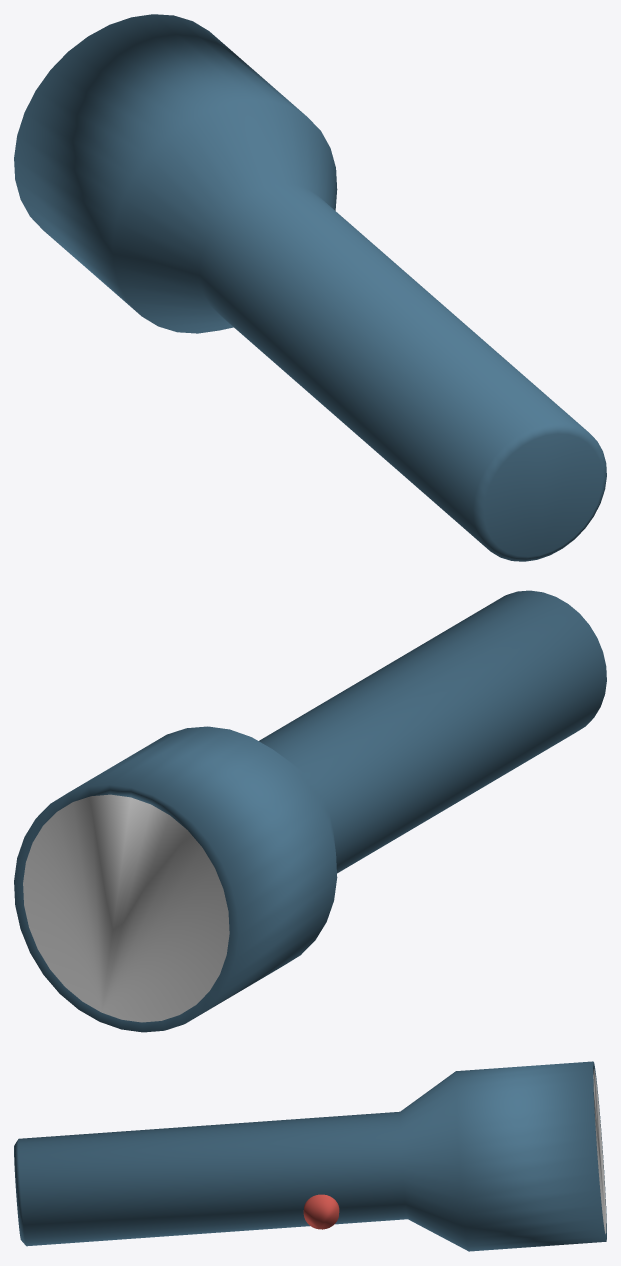
The model's file is flashlight.fbx.
3 views of the same model, one above another, from view 1: azimuth 30°, elevation 25°; view 2: azimuth 150°, elevation 25°; view 3: azimuth 270°, elevation 25° (orthographic). The views are drawn at different scales.
Visible parts, largest first — view 1: taskulamppu; view 2: taskulamppu; view 3: taskulamppu.
Part boxes in pixels (<box>): taskulamppu: <box>14,14,606,561</box>; taskulamppu: <box>14,590,606,1032</box>; taskulamppu: <box>14,1061,606,1251</box>.
Size of the model in its own units: 4 by 4.23 by 13.1.
